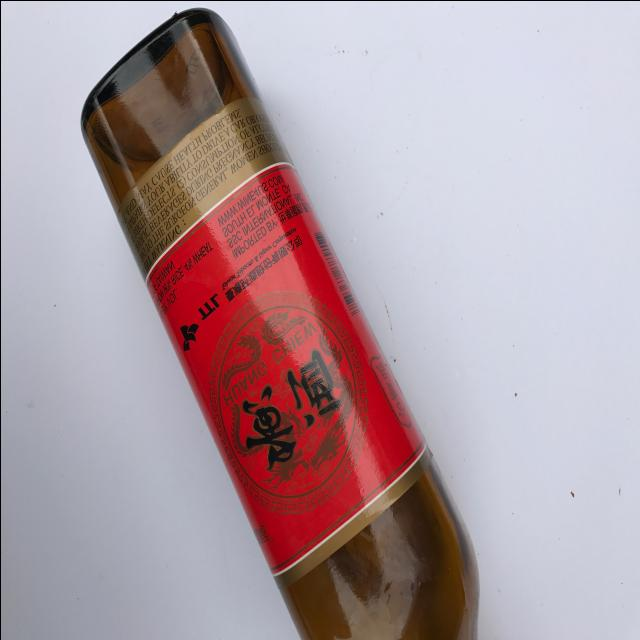glass: (60, 0, 525, 640)
